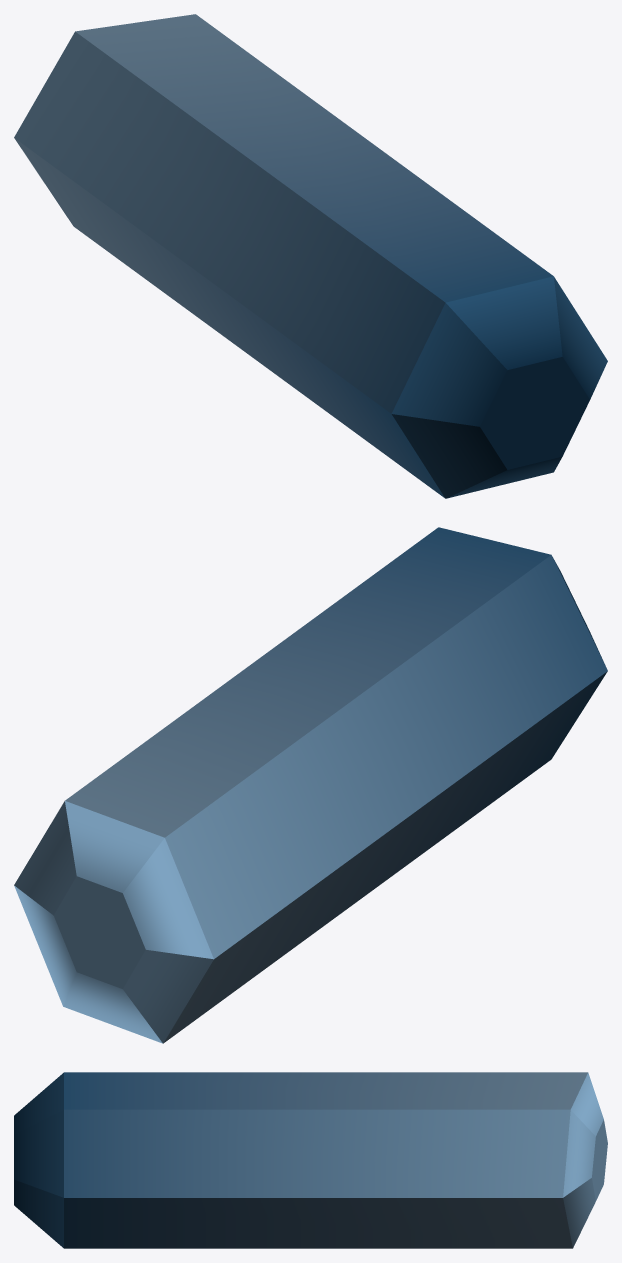
File: IceCrystal.013.glb
3 views of the same model, one above another, from view 1: azimuth 30°, elevation 25°; view 2: azimuth 150°, elevation 25°; view 3: azimuth 270°, elevation 25° (orthographic). The views are drawn at different scales.
Parts seen in each view (by area): view 1: IceCrystal.013; view 2: IceCrystal.013; view 3: IceCrystal.013.
Part boxes in pixels (x1=…): IceCrystal.013: x1=14, y1=14, x2=607, y2=498; IceCrystal.013: x1=14, y1=527, x2=607, y2=1043; IceCrystal.013: x1=14, y1=1072, x2=607, y2=1248.
Bounding box in the file's own units: 148 × 128 × 497.
